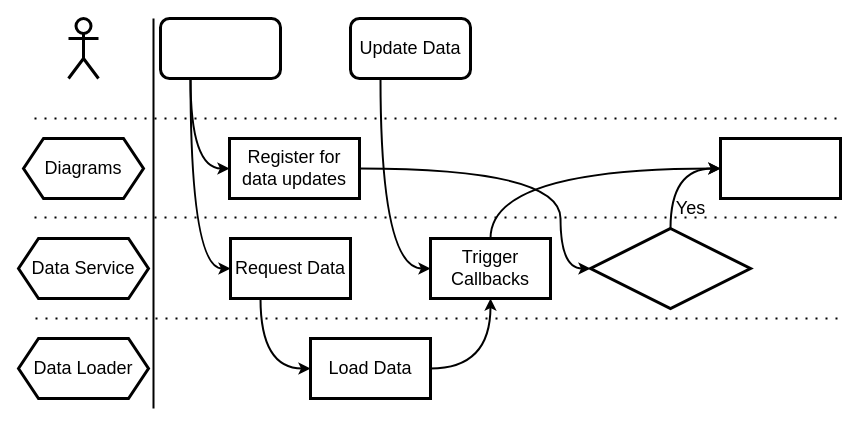
This 865x428 diagram has some shape labels left out. The centre of each missing label's shape, as x and y in pixels:
Access Showcase: point (220, 48)
Is data available?: point (670, 268)
Render Diagram: point (780, 168)
User: point (83, 48)
